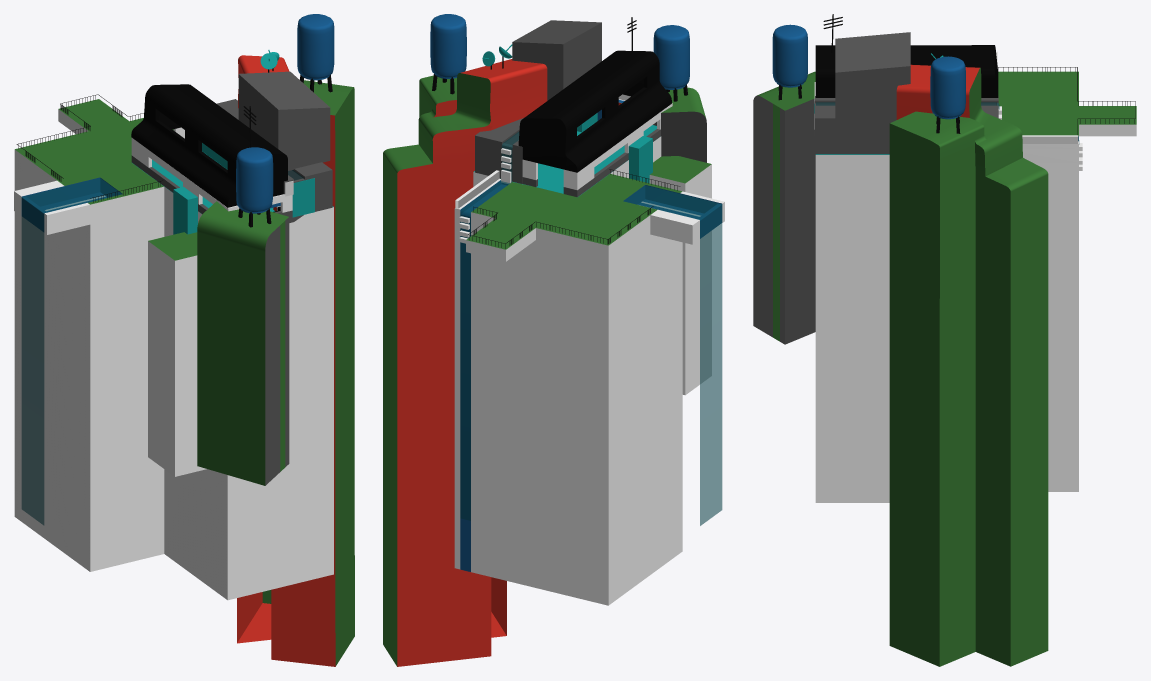
File: Export_Level_Base_Final_02_-90drg.FBX
3 views of the same model, side by side, from view 1: azimuth 30°, elevation 25°; view 2: azimuth 150°, elevation 25°; view 3: azimuth 270°, elevation 25° (orthographic). The views are drawn at different scales.
Visible parts, largest first — view 1: Base bâtiment, Background base, Volume bat TO HIDE, water piscine, Chateau d'eau, mur fond, barrière, mur batiment; view 2: Base bâtiment, Background base, water piscine, Volume bat TO HIDE, Chateau d'eau, barrière, mur batiment; view 3: Background base, Base bâtiment, Chateau d'eau, Volume bat TO HIDE.
Part boxes in pixels (x1,y1,x2,y2): Base bâtiment: [14, 99, 333, 600]; Background base: [148, 55, 354, 666]; Volume bat TO HIDE: [131, 84, 292, 212]; water piscine: [21, 170, 303, 525]; Chateau d'eau: [236, 14, 334, 227]; mur fond: [202, 143, 314, 217]; barrière: [16, 94, 162, 202]; mur batiment: [131, 155, 292, 218]; Base bâtiment: [454, 125, 724, 605]; Background base: [383, 20, 711, 666]; water piscine: [460, 132, 722, 525]; Volume bat TO HIDE: [518, 50, 672, 190]; Chateau d'eau: [430, 14, 689, 101]; barrière: [468, 169, 680, 248]; mur batiment: [522, 129, 660, 197]; Background base: [753, 32, 1082, 666]; Base bâtiment: [815, 51, 1136, 502]; Chateau d'eau: [772, 24, 965, 133]; Volume bat TO HIDE: [814, 45, 998, 129].
Bounding box in the file's own units: 5438 × 10417 × 6153.
